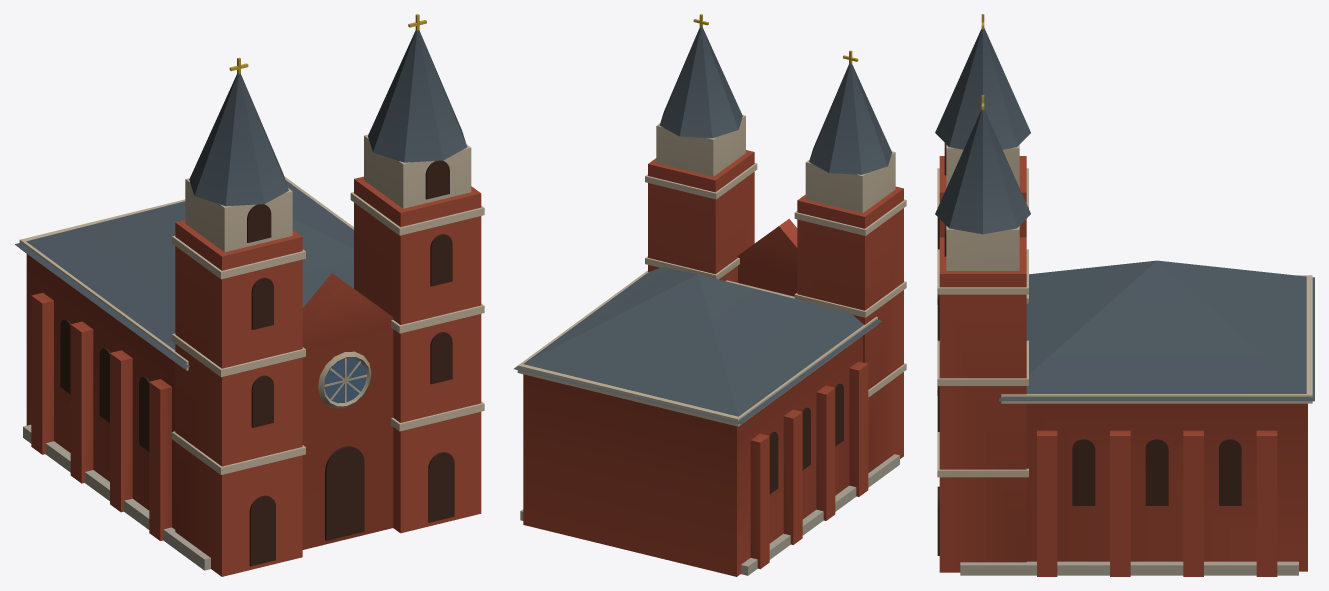
Rendered from lm-cathedral.glb.
3 renders of one model, left to right at view 1: azimuth 30°, elevation 25°; view 2: azimuth 150°, elevation 25°; view 3: azimuth 270°, elevation 25°, orthographic. The views are drawn at different scales.
Bounding box in the file's own units: 6.55 × 11.06 × 8.3.
